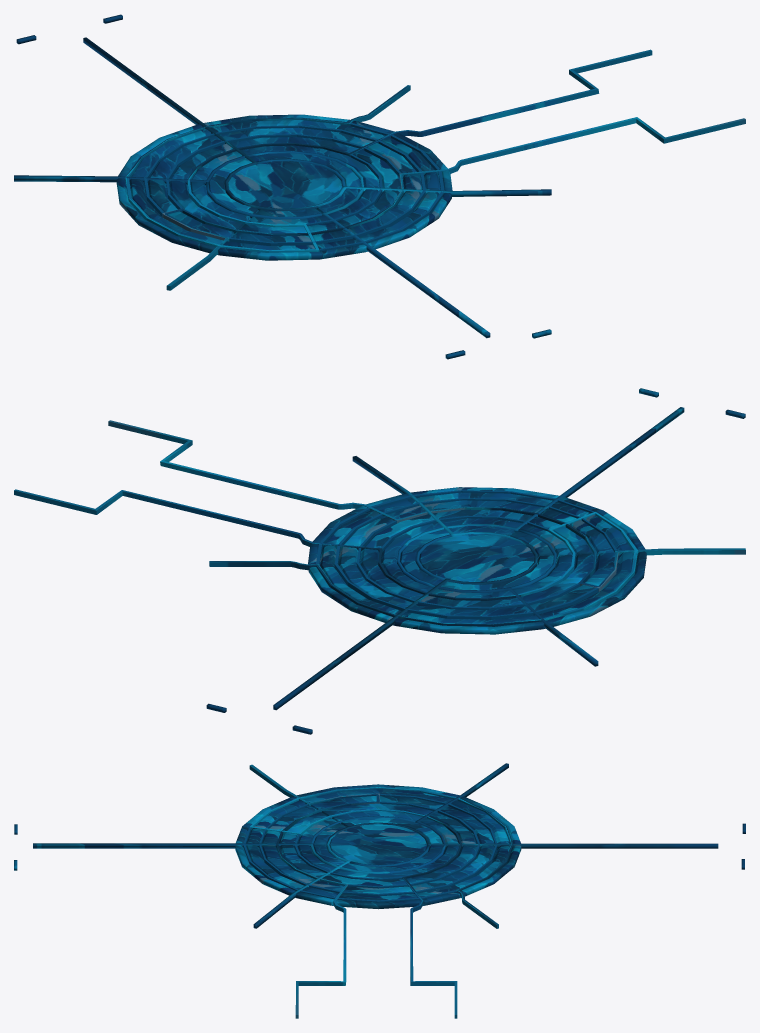
File: SM_PuzzleLeverRoom.fbx
The picture shows the model from 3 angles, top to bottom: view 1: azimuth 30°, elevation 25°; view 2: azimuth 150°, elevation 25°; view 3: azimuth 270°, elevation 25°; orthographic projection. The views are drawn at different scales.
Visible parts, largest first — view 1: SM_ManaChannelPlate, SM_ManaChannel_03, SM_ManaChannel_04, SM_ManaChannel_01, SM_ManaChannel_02; view 2: SM_ManaChannelPlate, SM_ManaChannel_03, SM_ManaChannel_04, SM_ManaChannel_01, SM_ManaChannel_02; view 3: SM_ManaChannelPlate, SM_ManaChannel_03, SM_ManaChannel_04, SM_ManaChannel_01, SM_ManaChannel_02.
Part boxes in pixels (x1,y1,x2,y2): SM_ManaChannelPlate: (116,114,452,260); SM_ManaChannel_03: (144,117,745,290); SM_ManaChannel_04: (125,49,652,252); SM_ManaChannel_01: (14,151,490,338); SM_ManaChannel_02: (83,37,551,211); SM_ManaChannelPlate: (308,487,646,634); SM_ManaChannel_03: (108,420,745,619); SM_ManaChannel_04: (14,489,637,626); SM_ManaChannel_01: (397,407,684,666); SM_ManaChannel_02: (273,456,537,710); SM_ManaChannelPlate: (235,784,521,909); SM_ManaChannel_03: (249,764,497,1018); SM_ManaChannel_04: (243,787,513,1018); SM_ManaChannel_01: (33,763,508,873); SM_ManaChannel_02: (253,822,718,928).
Size of the model in its own units: 17.67 by 0.1533 by 21.71.
